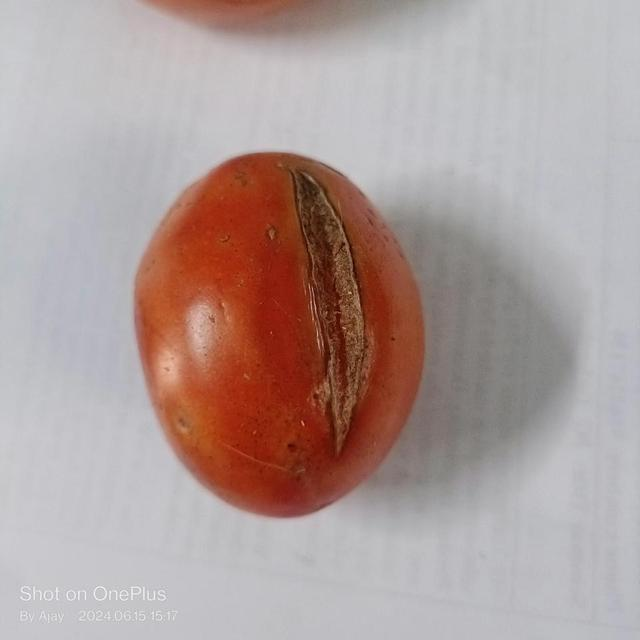Cracking Fruit: (91, 15, 300, 212)
